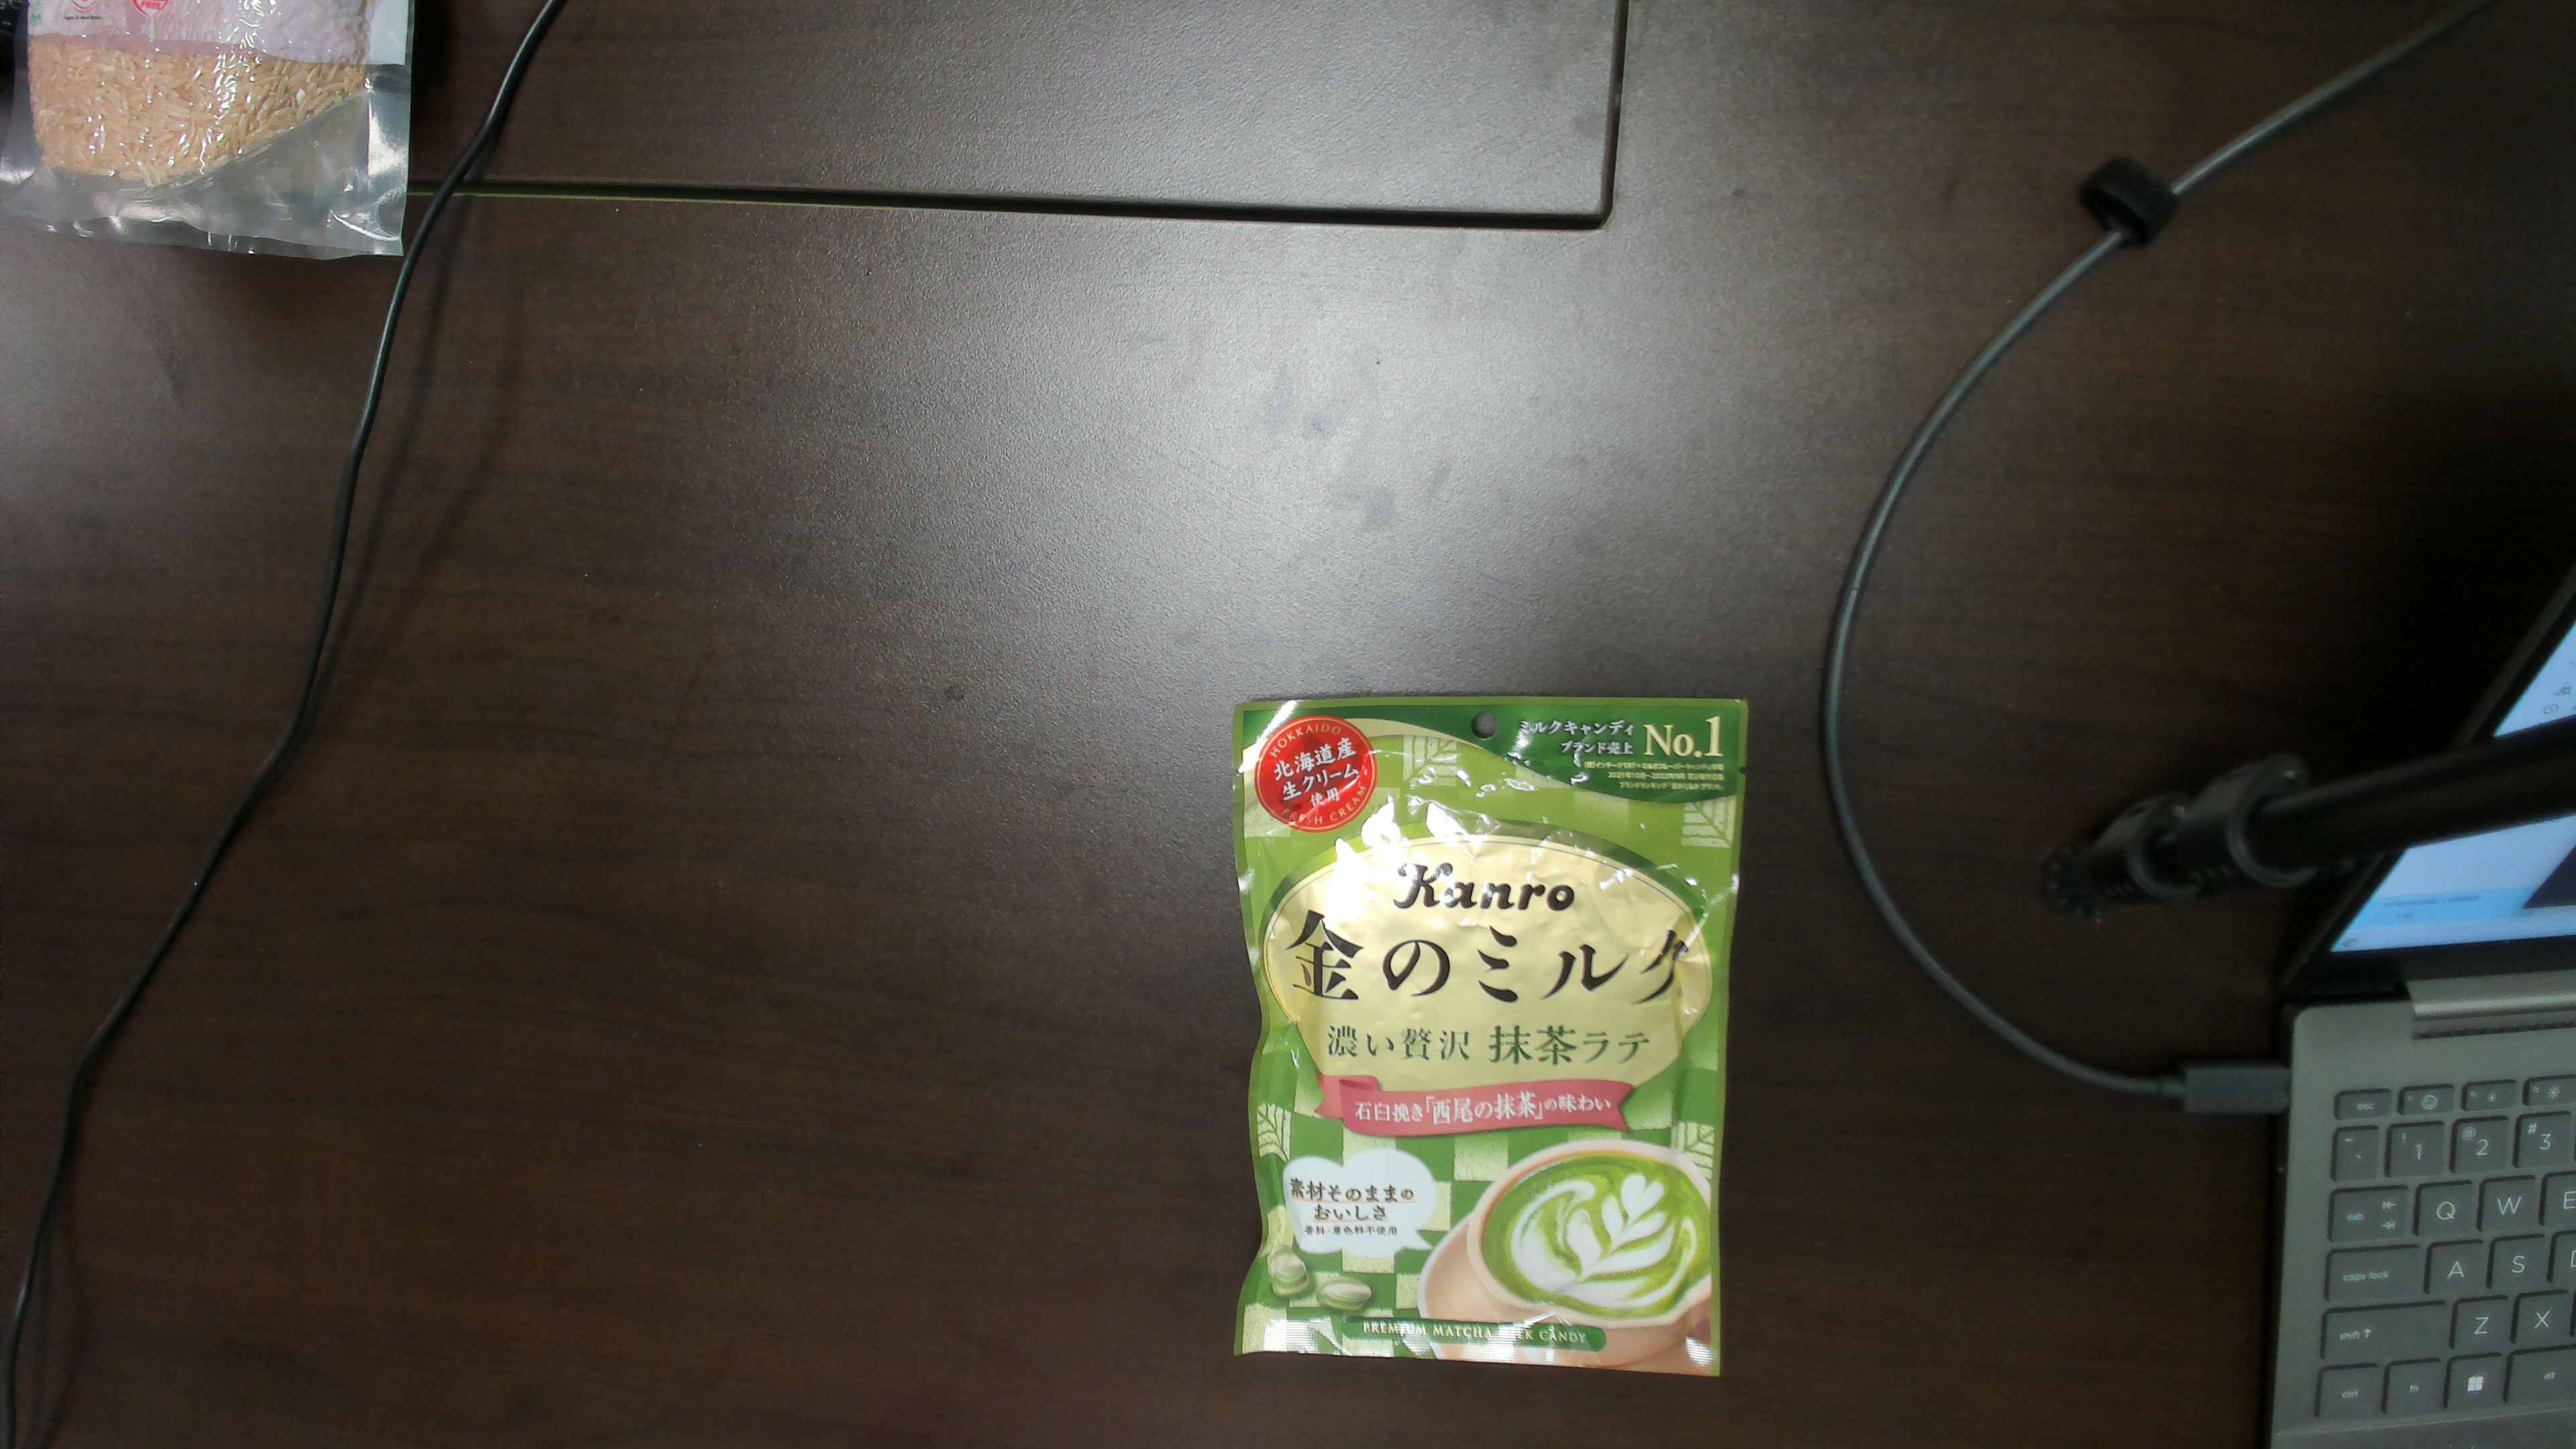SweetsChocolatesOthers_100-199g_NonHalal_NonHealthy: (1240, 717, 1739, 1369)
